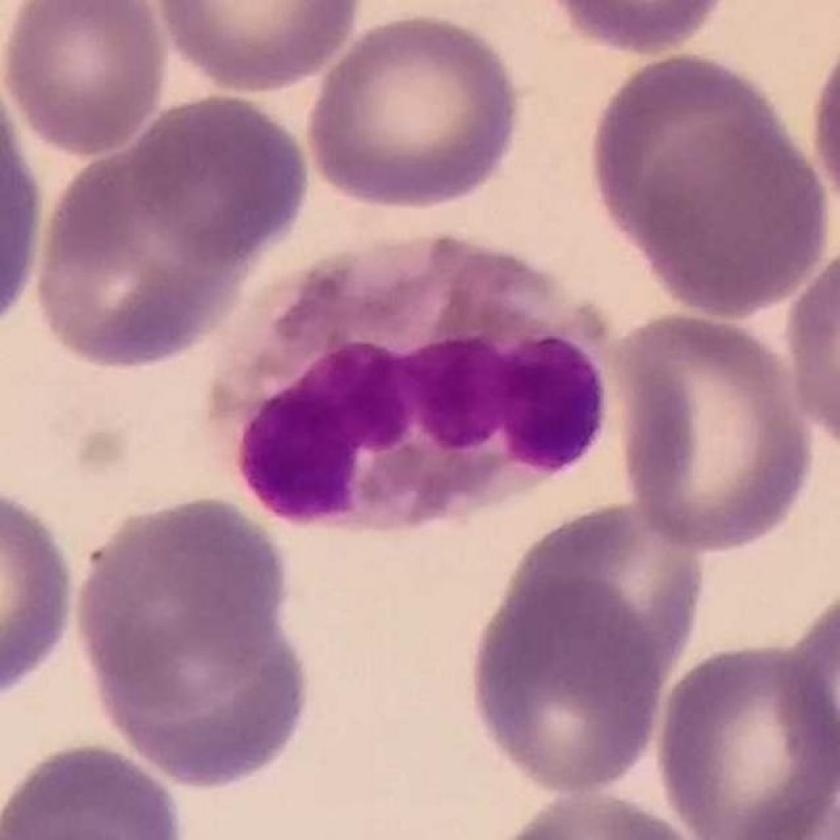eosinophil: (212, 227, 614, 529)
